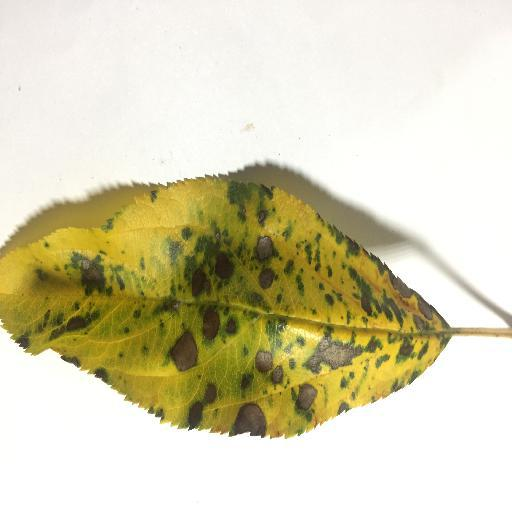Brown_Spot: (287, 353, 359, 368), (240, 407, 268, 436), (166, 342, 197, 368), (297, 388, 327, 410), (352, 293, 376, 316), (201, 309, 217, 341), (75, 267, 100, 285), (46, 323, 90, 332), (192, 273, 210, 293), (215, 254, 231, 275), (226, 317, 241, 338), (258, 270, 275, 287), (395, 282, 415, 296), (256, 352, 272, 369), (259, 242, 275, 258), (415, 303, 432, 317), (187, 402, 195, 430), (200, 387, 214, 400), (405, 343, 414, 356)
